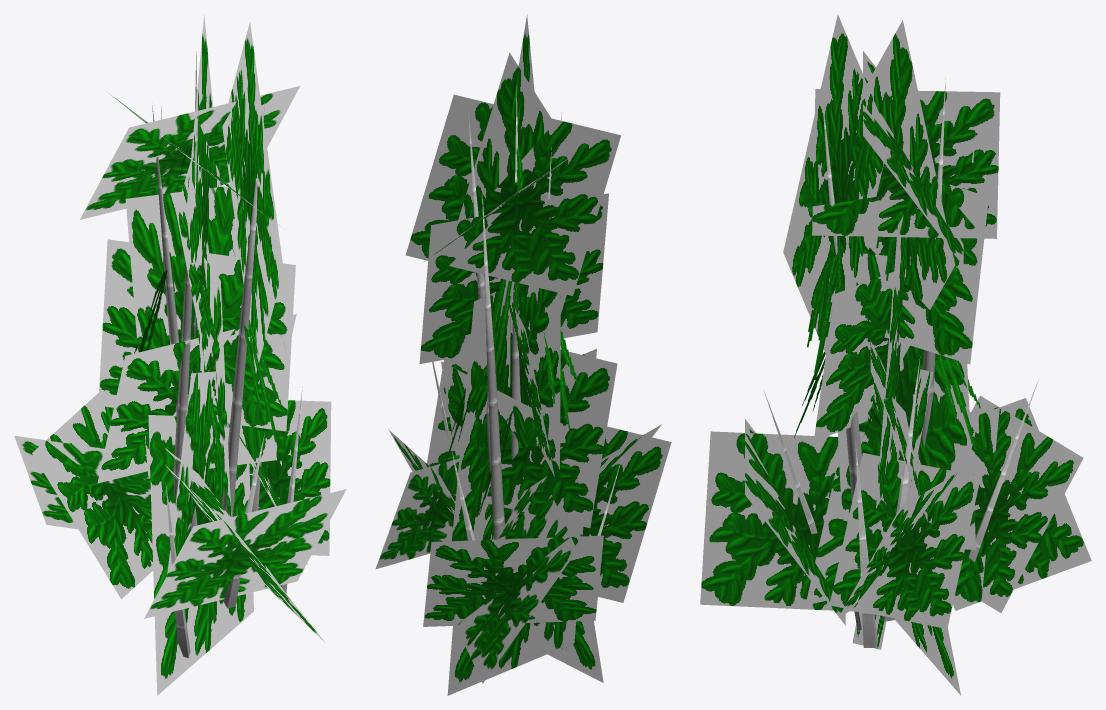
File: bamboo.obj
The picture shows the model from 3 angles, left to right: view 1: azimuth 30°, elevation 25°; view 2: azimuth 150°, elevation 25°; view 3: azimuth 270°, elevation 25°; orthographic projection. The views are drawn at different scales.
Visible parts, largest first — view 1: Duplicate01, Duplicate03, Duplicate04, Duplicate02, Box01, Duplicate05, Duplicate10, Duplicate11, Duplicate12, Duplicate15, Duplicate19, Box02 (+1 smaller); view 2: Duplicate03, Box01, Duplicate01, Duplicate04, Duplicate02, Duplicate05, Duplicate08, Cylinder01, Duplicate14, Duplicate09; view 3: Duplicate02, Duplicate01, Duplicate03, Duplicate04, Duplicate05, Box01, Duplicate16, Duplicate10, Duplicate21, Duplicate13, Duplicate09, Duplicate18 (+2 smaller).
Boxes of the visible parts, x1=… form: Duplicate01: x1=97, y1=22, x2=346, y2=618; Duplicate03: x1=14, y1=162, x2=253, y2=695; Duplicate04: x1=125, y1=162, x2=331, y2=574; Duplicate02: x1=98, y1=15, x2=325, y2=642; Box01: x1=80, y1=86, x2=299, y2=472; Duplicate05: x1=177, y1=146, x2=231, y2=517; Duplicate10: x1=222, y1=99, x2=265, y2=516; Duplicate11: x1=173, y1=107, x2=198, y2=505; Duplicate12: x1=152, y1=105, x2=197, y2=530; Duplicate15: x1=242, y1=320, x2=281, y2=448; Duplicate19: x1=165, y1=482, x2=190, y2=657; Box02: x1=223, y1=433, x2=264, y2=608; Duplicate03: x1=419, y1=193, x2=608, y2=683; Box01: x1=406, y1=94, x2=620, y2=295; Duplicate01: x1=423, y1=14, x2=671, y2=602; Duplicate04: x1=375, y1=179, x2=596, y2=695; Duplicate02: x1=458, y1=52, x2=661, y2=539; Duplicate05: x1=452, y1=144, x2=523, y2=541; Duplicate08: x1=482, y1=190, x2=505, y2=539; Cylinder01: x1=511, y1=86, x2=520, y2=514; Duplicate14: x1=543, y1=329, x2=579, y2=428; Duplicate09: x1=468, y1=111, x2=504, y2=531; Duplicate02: x1=700, y1=20, x2=980, y2=611; Duplicate01: x1=745, y1=14, x2=1000, y2=625; Duplicate03: x1=852, y1=182, x2=1091, y2=649; Duplicate04: x1=829, y1=215, x2=980, y2=695; Duplicate05: x1=837, y1=253, x2=976, y2=550; Box01: x1=863, y1=51, x2=963, y2=436; Duplicate16: x1=807, y1=248, x2=843, y2=379; Duplicate10: x1=822, y1=94, x2=861, y2=500; Duplicate21: x1=855, y1=440, x2=877, y2=647; Duplicate13: x1=937, y1=354, x2=980, y2=449; Duplicate09: x1=921, y1=78, x2=945, y2=447; Duplicate18: x1=968, y1=380, x2=1038, y2=562.
Bounding box in the file's own units: 42.96 × 104 × 54.97.
